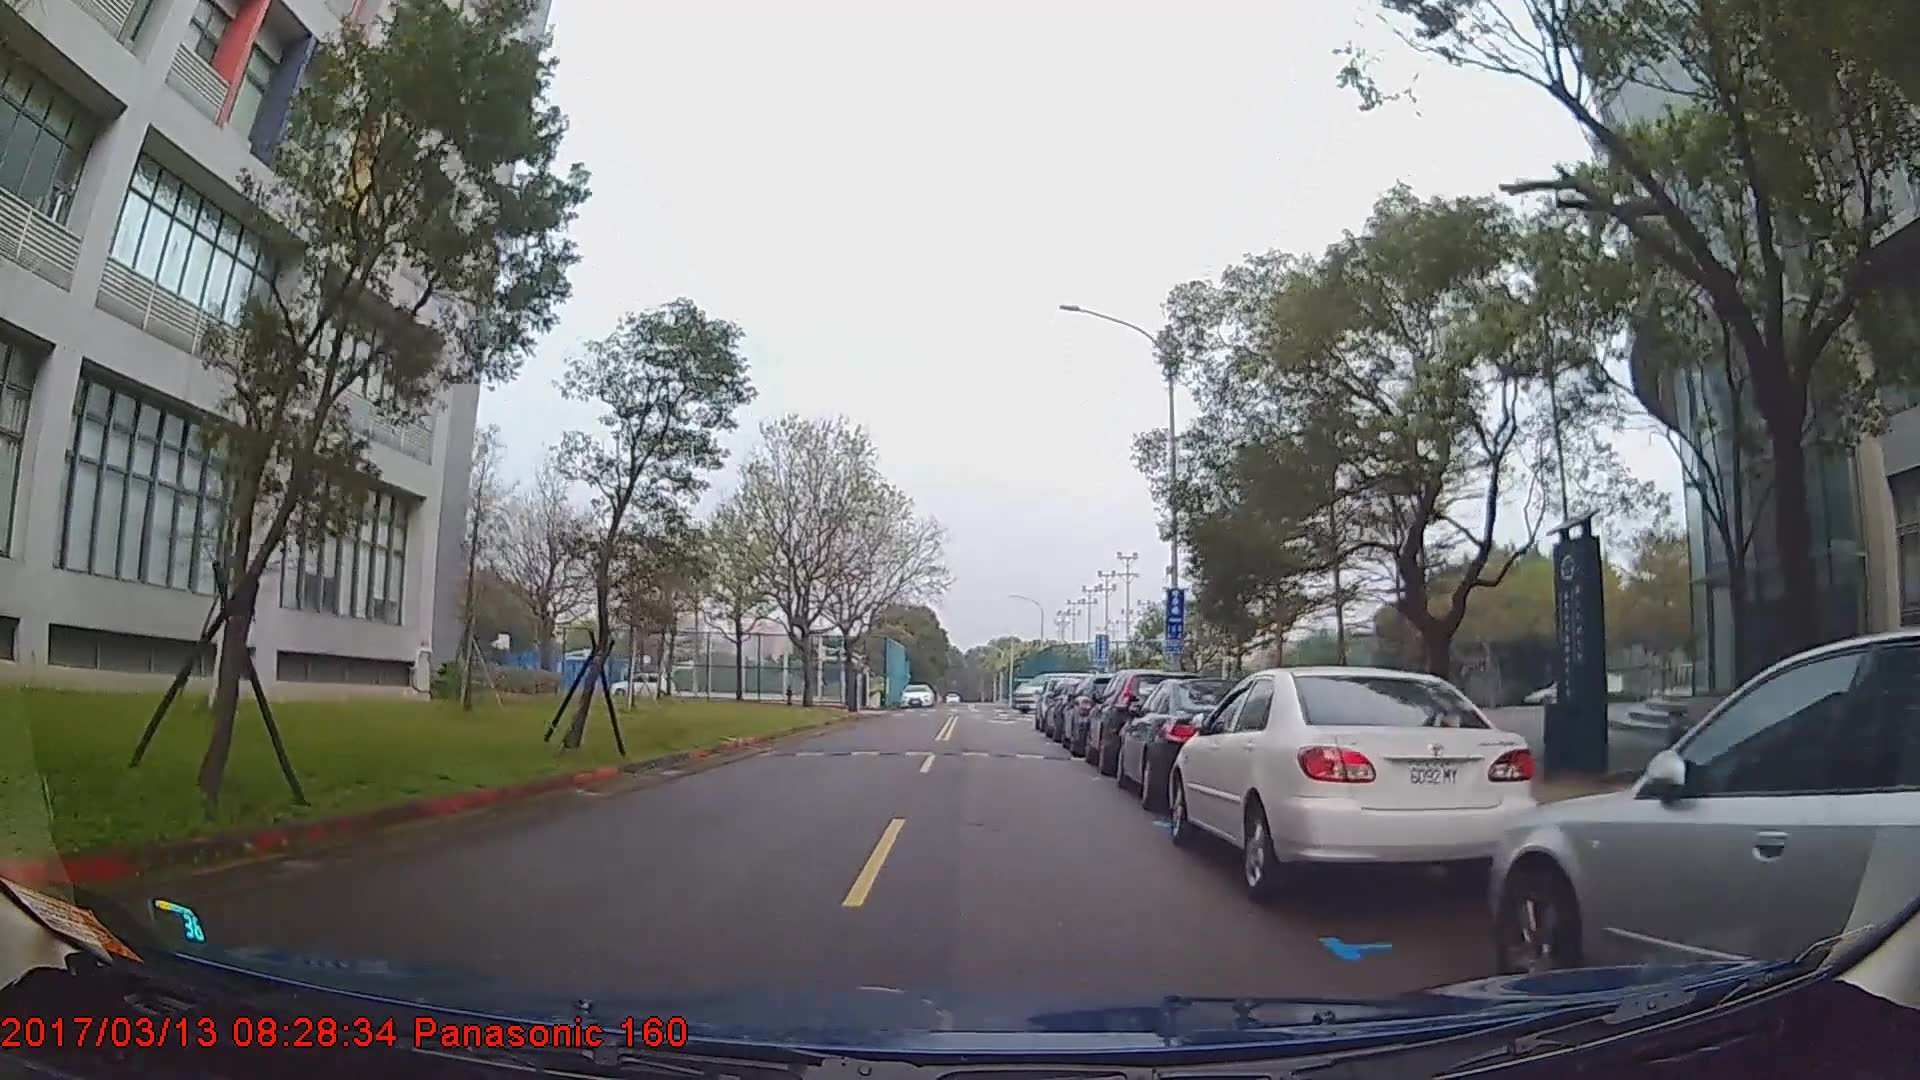vehicle: (1487, 626, 1919, 1007), (1166, 665, 1540, 901), (1116, 675, 1271, 811), (608, 671, 675, 699), (899, 684, 934, 708)
